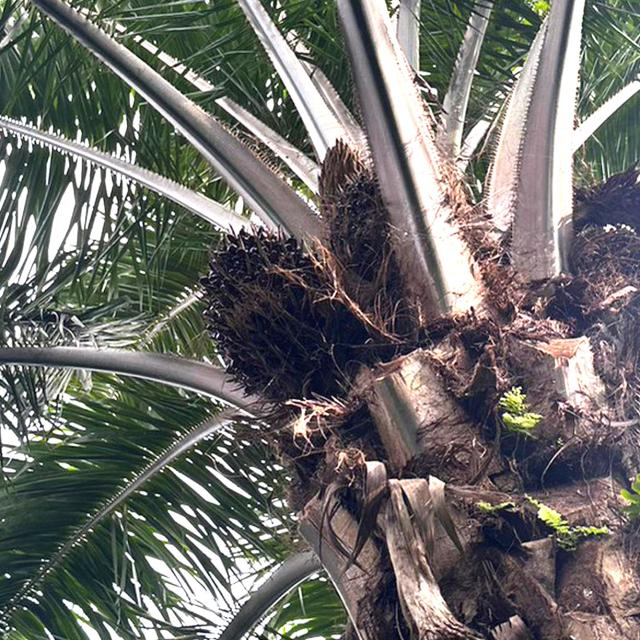ripe: (182, 210, 352, 405)
